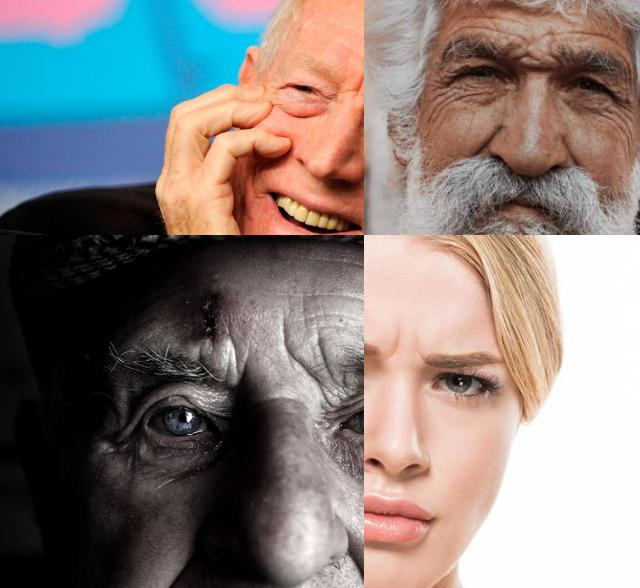crows_feet: (430, 72, 456, 108), (107, 422, 135, 455), (610, 84, 630, 126)
forehead: (458, 6, 510, 38), (338, 286, 364, 325), (574, 22, 612, 46)
frown_line: (277, 330, 341, 387), (386, 326, 424, 370), (218, 337, 250, 389), (513, 44, 555, 72), (348, 61, 364, 100)
gummy_smile: (142, 540, 199, 588), (476, 122, 496, 154), (563, 142, 583, 170)
